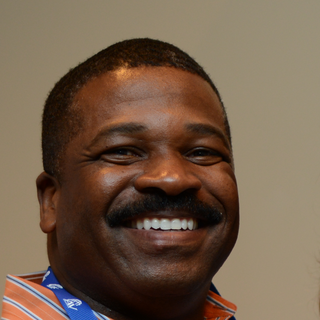eye: (180, 141, 224, 165)
